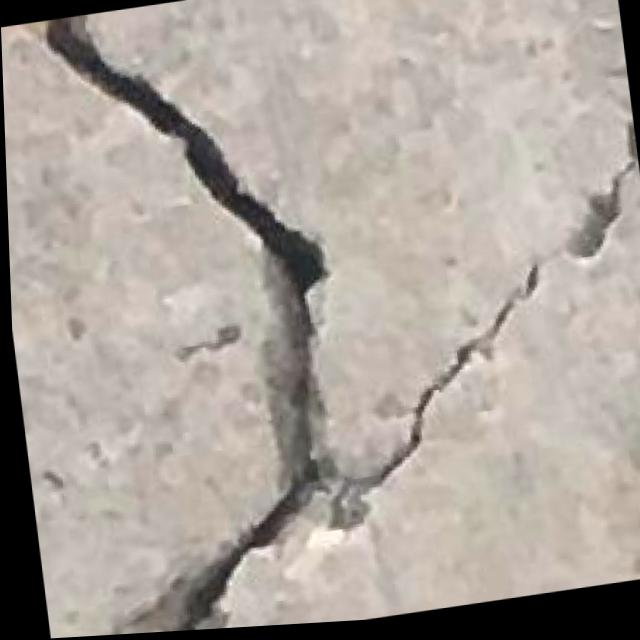Crack: (32, 0, 640, 639)
